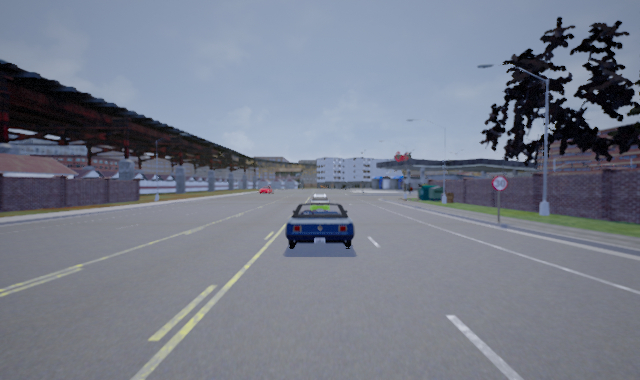traffic_sign: (491, 176, 508, 192)
vehicle: (284, 199, 355, 254), (308, 193, 331, 215), (257, 185, 270, 194)
